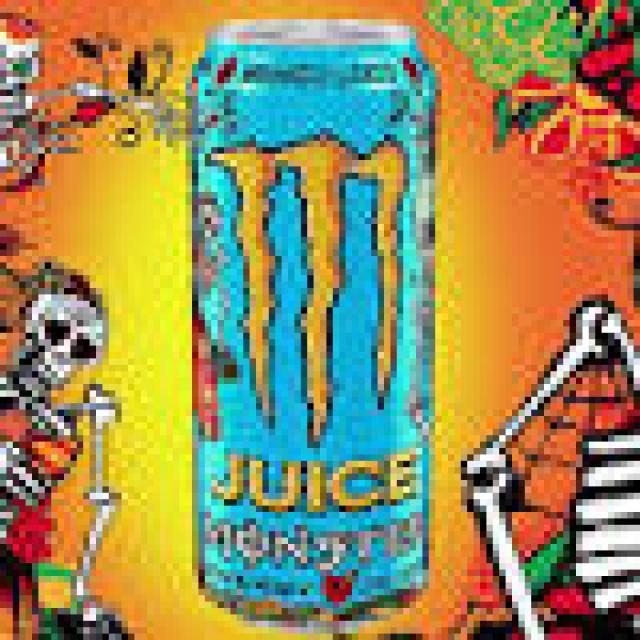Cans: (186, 7, 447, 639)
